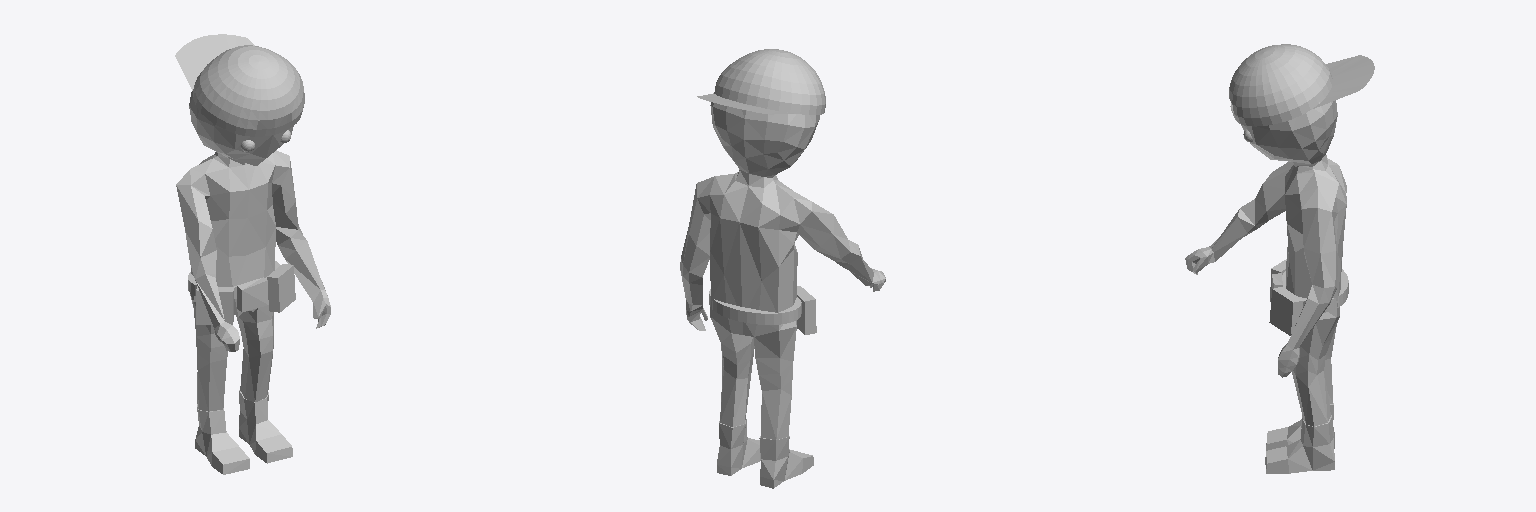
File: Main_Character_Pickup_Paint_9.obj
3 views of the same model, side by side, from view 1: azimuth 30°, elevation 25°; view 2: azimuth 150°, elevation 25°; view 3: azimuth 270°, elevation 25° (orthographic).
Visible parts, largest first — view 1: Main_Character_Test.003_Main_Character_Test.004; view 2: Main_Character_Test.003_Main_Character_Test.004; view 3: Main_Character_Test.003_Main_Character_Test.004.
Boxes of the visible parts, <box> form: Main_Character_Test.003_Main_Character_Test.004: <box>175,34,330,474</box>; Main_Character_Test.003_Main_Character_Test.004: <box>680,49,885,488</box>; Main_Character_Test.003_Main_Character_Test.004: <box>1185,44,1374,473</box>.
Bounding box in the file's own units: 1.54 × 3.93 × 1.65.